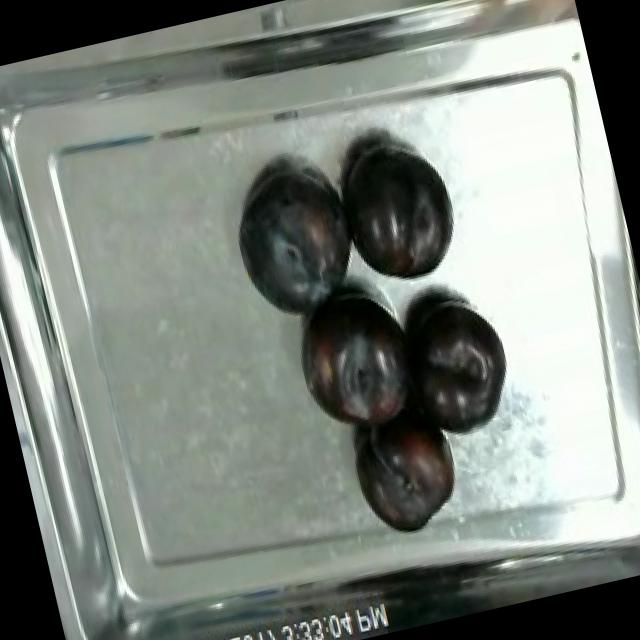Fruit: (214, 154, 371, 336), (278, 268, 436, 448), (384, 280, 529, 450), (328, 132, 470, 298), (338, 400, 473, 546)
